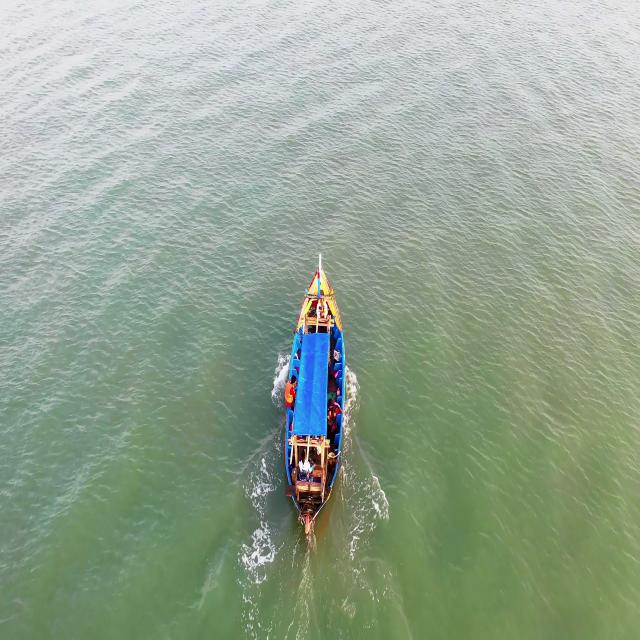ship: (284, 240, 346, 532)
